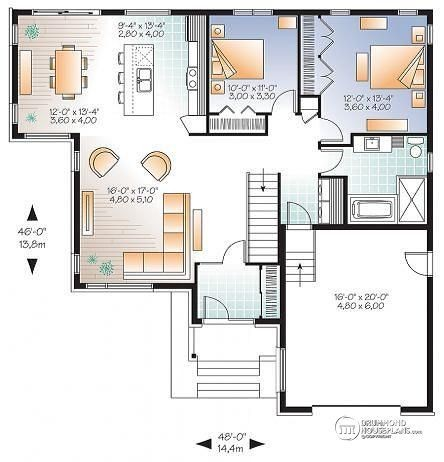door: (199, 291, 233, 316), (282, 199, 316, 224), (213, 236, 247, 261), (267, 86, 296, 111), (402, 248, 425, 279), (320, 146, 346, 173), (321, 117, 347, 144)
room: (297, 9, 433, 136), (204, 8, 301, 136), (351, 133, 433, 227)
window: (30, 9, 101, 16), (85, 283, 154, 290), (232, 8, 273, 16), (124, 9, 168, 16), (24, 133, 68, 140), (70, 150, 80, 172), (70, 253, 80, 275), (10, 24, 18, 46), (9, 103, 17, 125), (424, 25, 433, 44), (425, 153, 434, 172), (395, 9, 418, 16), (328, 9, 348, 17)
